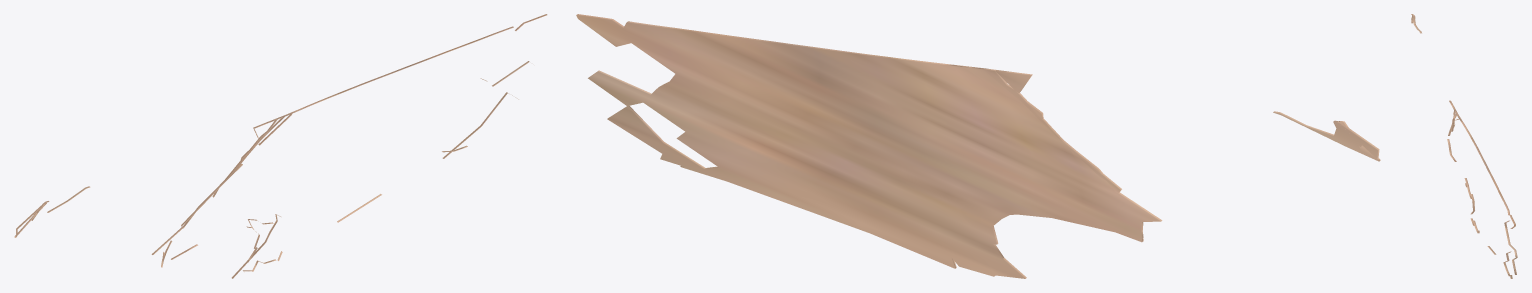
The picture shows the model from 3 angles, left to right: view 1: azimuth 30°, elevation 25°; view 2: azimuth 150°, elevation 25°; view 3: azimuth 270°, elevation 25°; orthographic projection. The views are drawn at different scales.
Size of the model in its own units: 10.8 by 2.74 by 2.24.
Materials: 1 (1 with a texture image).
